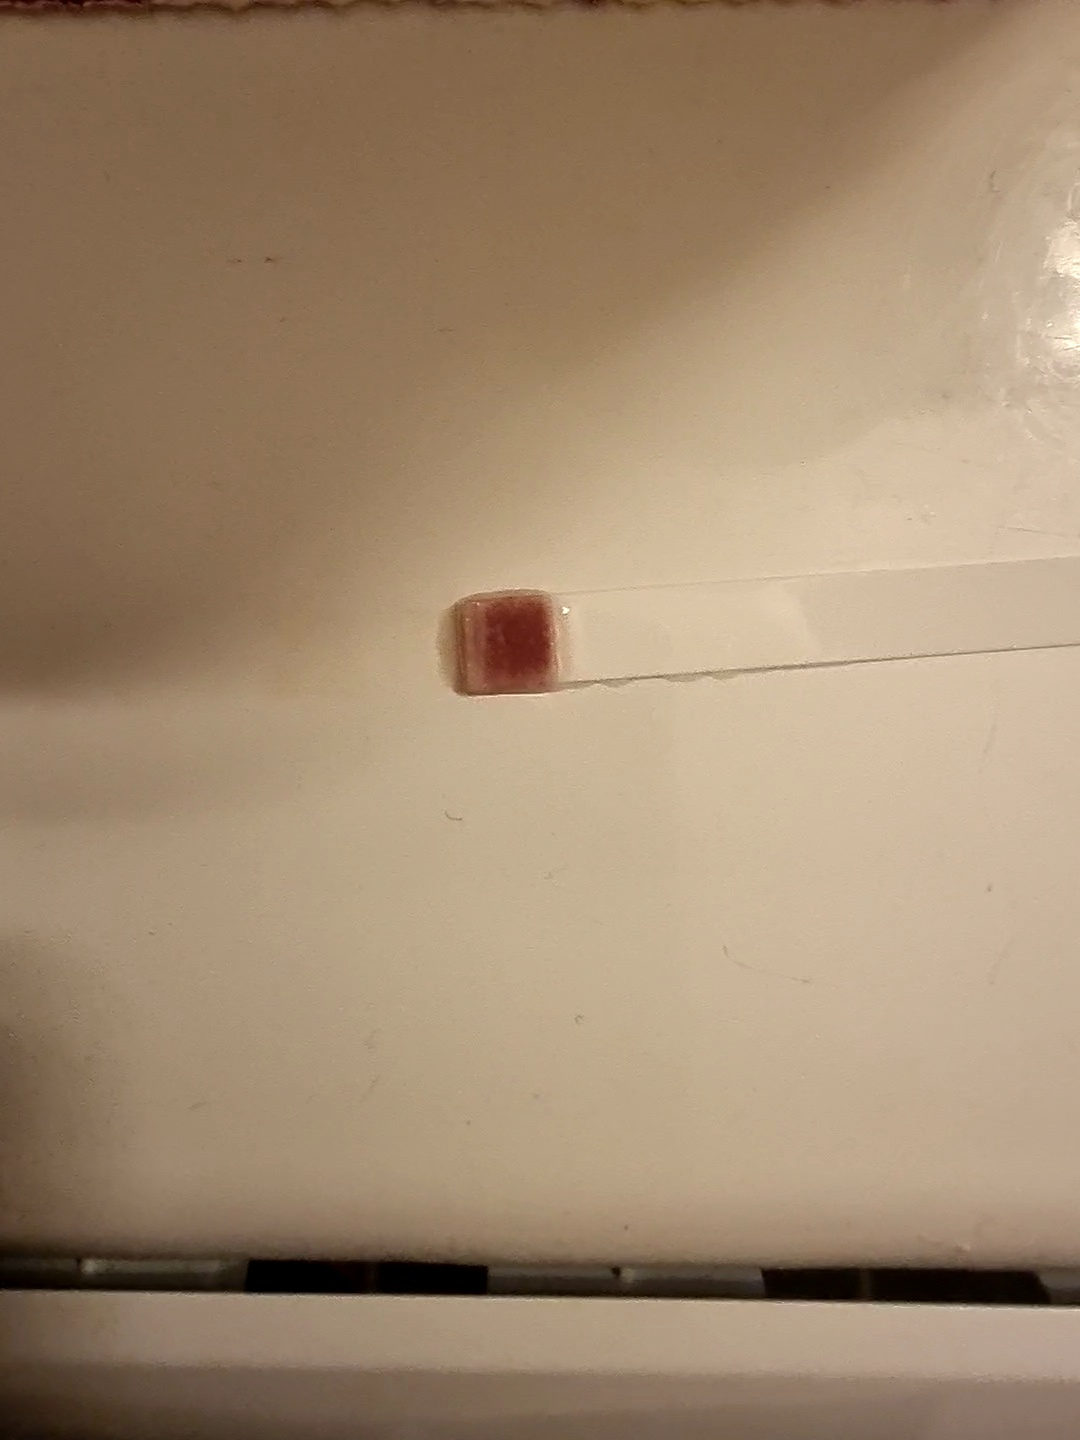keto-tip: (439, 584, 572, 702)
